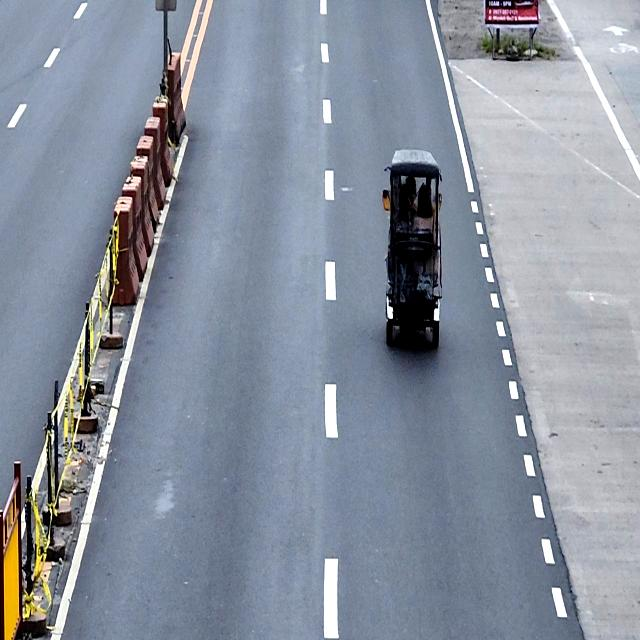E-bike: (382, 145, 444, 354)
